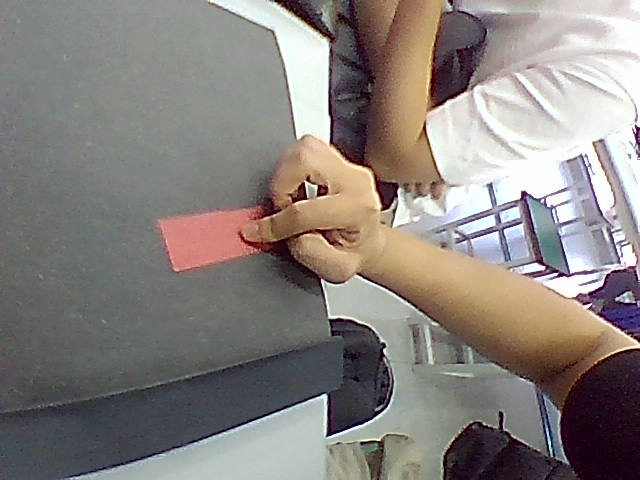card: (159, 206, 272, 272)
